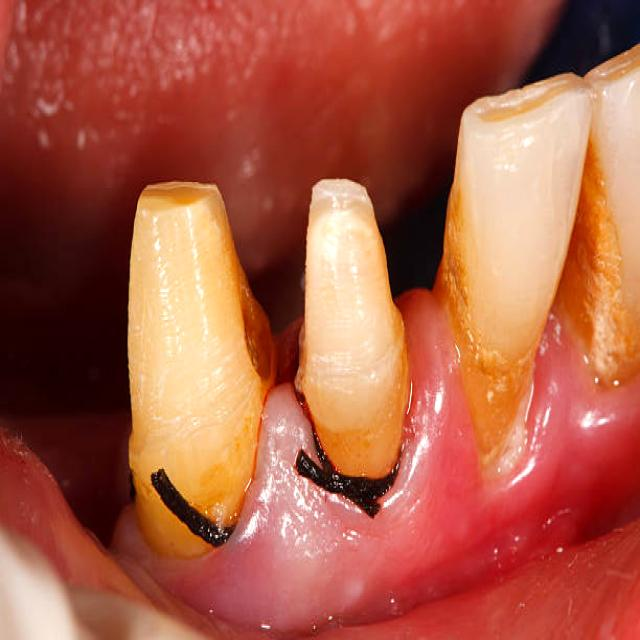calculus: (447, 185, 549, 466), (556, 129, 639, 383), (133, 403, 261, 555), (295, 391, 404, 515), (303, 398, 402, 478), (151, 469, 235, 546), (383, 383, 401, 420), (404, 353, 413, 416)
